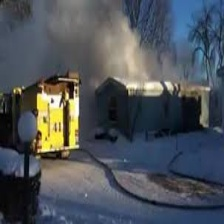smoke: (14, 10, 148, 87)
